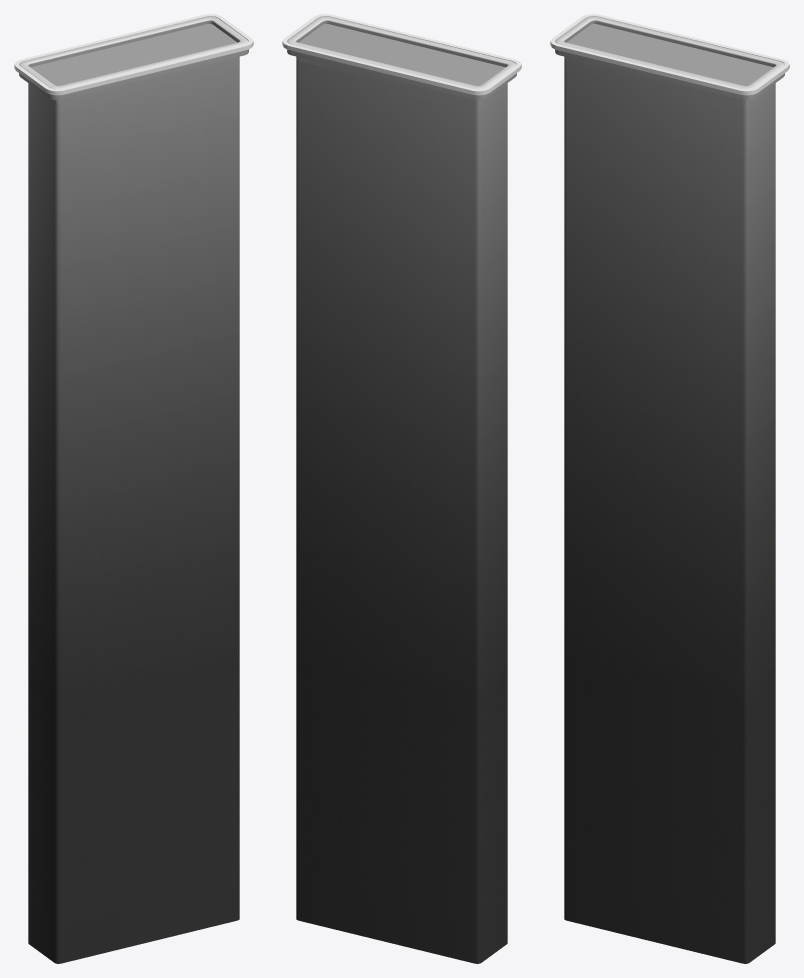
The model's file is BLOCK_3D_3.fbx.
The picture shows the model from 3 angles, left to right: view 1: azimuth 30°, elevation 25°; view 2: azimuth 150°, elevation 25°; view 3: azimuth 330°, elevation 25°; orthographic projection.
Visible parts, largest first — view 1: 2, SOLID_2, OUTLINE; view 2: 2, SOLID_2, OUTLINE; view 3: 2, SOLID_2, OUTLINE.
Part boxes in pixels (x1=…): 2: x1=19, y1=16, x2=248, y2=963; SOLID_2: x1=28, y1=24, x2=239, y2=103; OUTLINE: x1=14, y1=14, x2=253, y2=95; 2: x1=287, y1=16, x2=516, y2=963; SOLID_2: x1=296, y1=24, x2=507, y2=103; OUTLINE: x1=282, y1=14, x2=521, y2=95; 2: x1=555, y1=16, x2=784, y2=963; SOLID_2: x1=564, y1=24, x2=775, y2=103; OUTLINE: x1=550, y1=14, x2=789, y2=95.
Size of the model in its own units: 312 by 1270 by 112.
